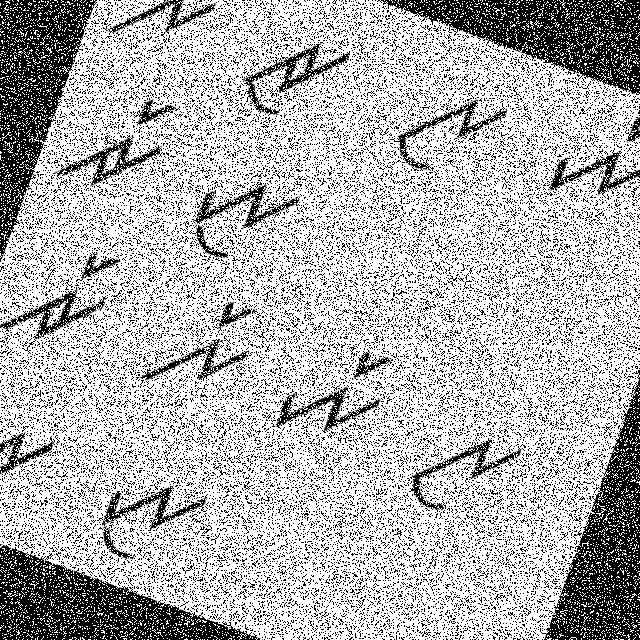lar: (128, 273, 270, 425), (101, 0, 235, 73)
law: (391, 389, 542, 543), (384, 70, 514, 202)
rar: (47, 68, 184, 214), (0, 222, 128, 365)
raw: (226, 8, 361, 142), (0, 390, 69, 532)
yar: (263, 323, 408, 468), (539, 80, 639, 227)
yaw: (69, 441, 221, 594), (173, 146, 314, 290)
